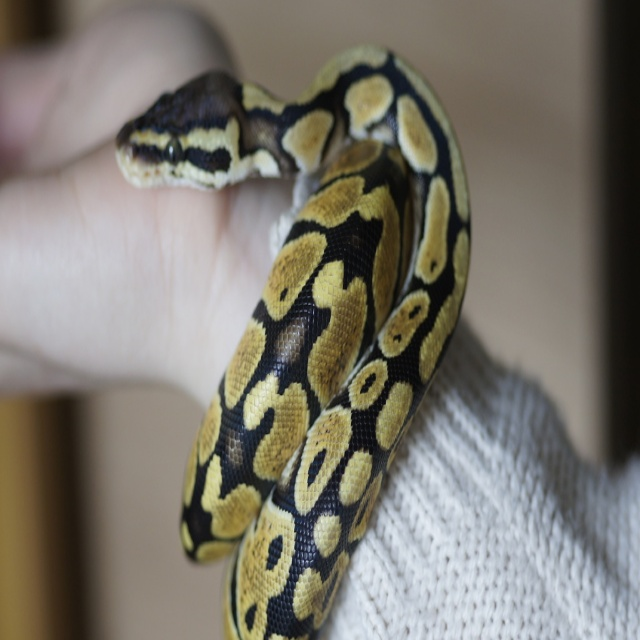Snake: (114, 44, 471, 640)
